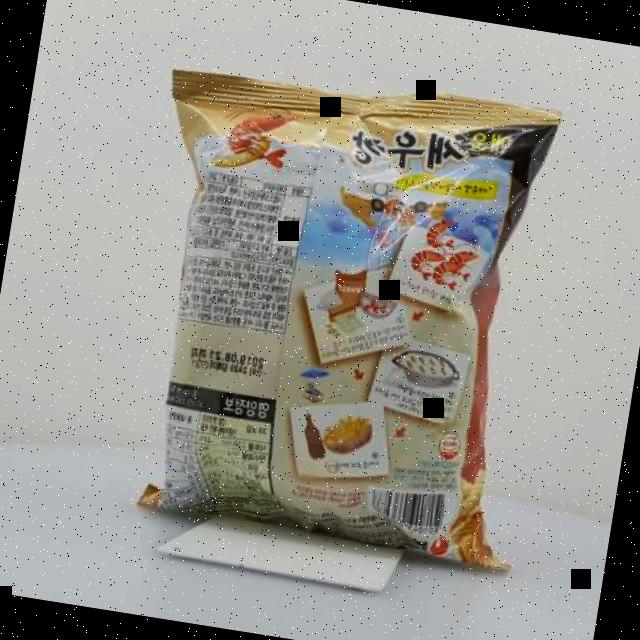snack_bag: (74, 28, 602, 610)
